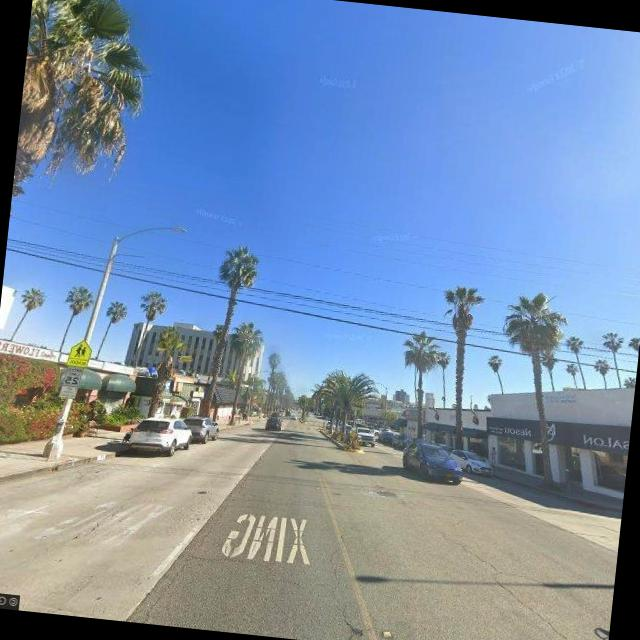pothole: (436, 530, 588, 640)
